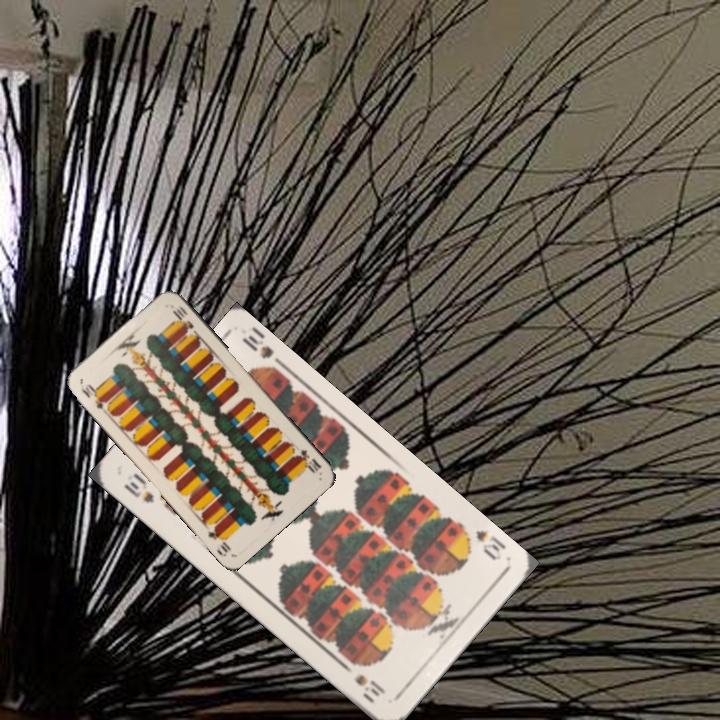E10: (76, 379, 112, 414), (292, 445, 324, 476)
S10: (458, 522, 508, 563), (120, 470, 157, 506)
